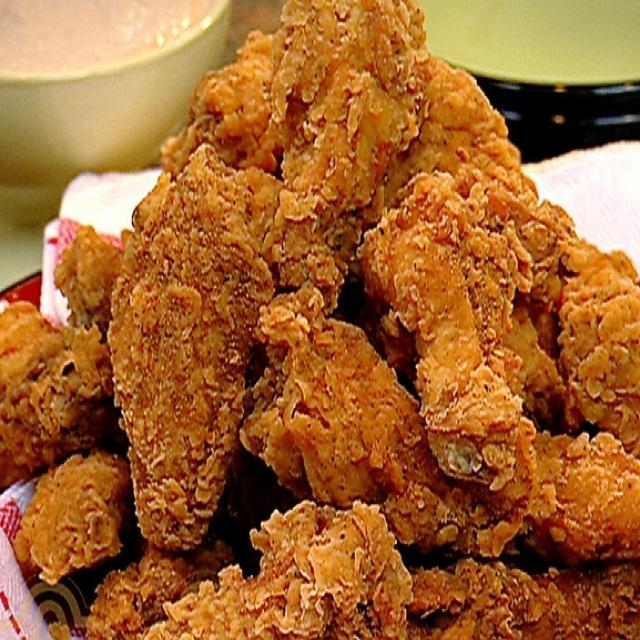Deep fried chicken wing: (49, 33, 621, 625)
